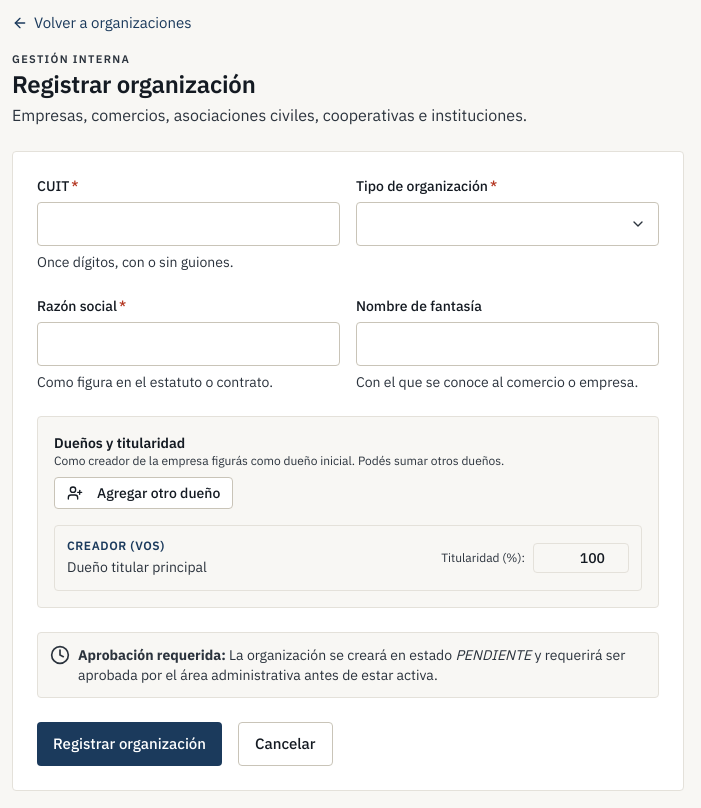
Test: alta de organización › exige CUIT y razón social
Click the button "Registrar organización": (130, 744) [37,722,222,766]
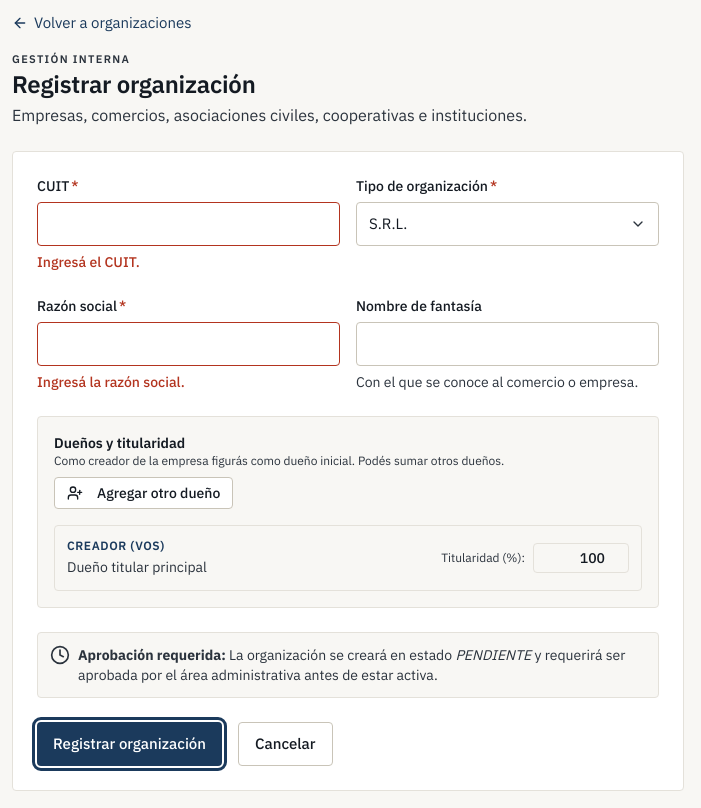
expect the text "Ingresá el CUIT." is shown: met, box [37,253,140,271]
expect the text "Ingresá la razón social." is shown: met, box [37,373,185,391]
